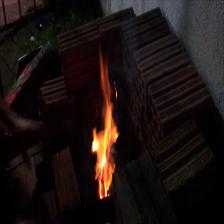fire: (84, 68, 121, 201)
